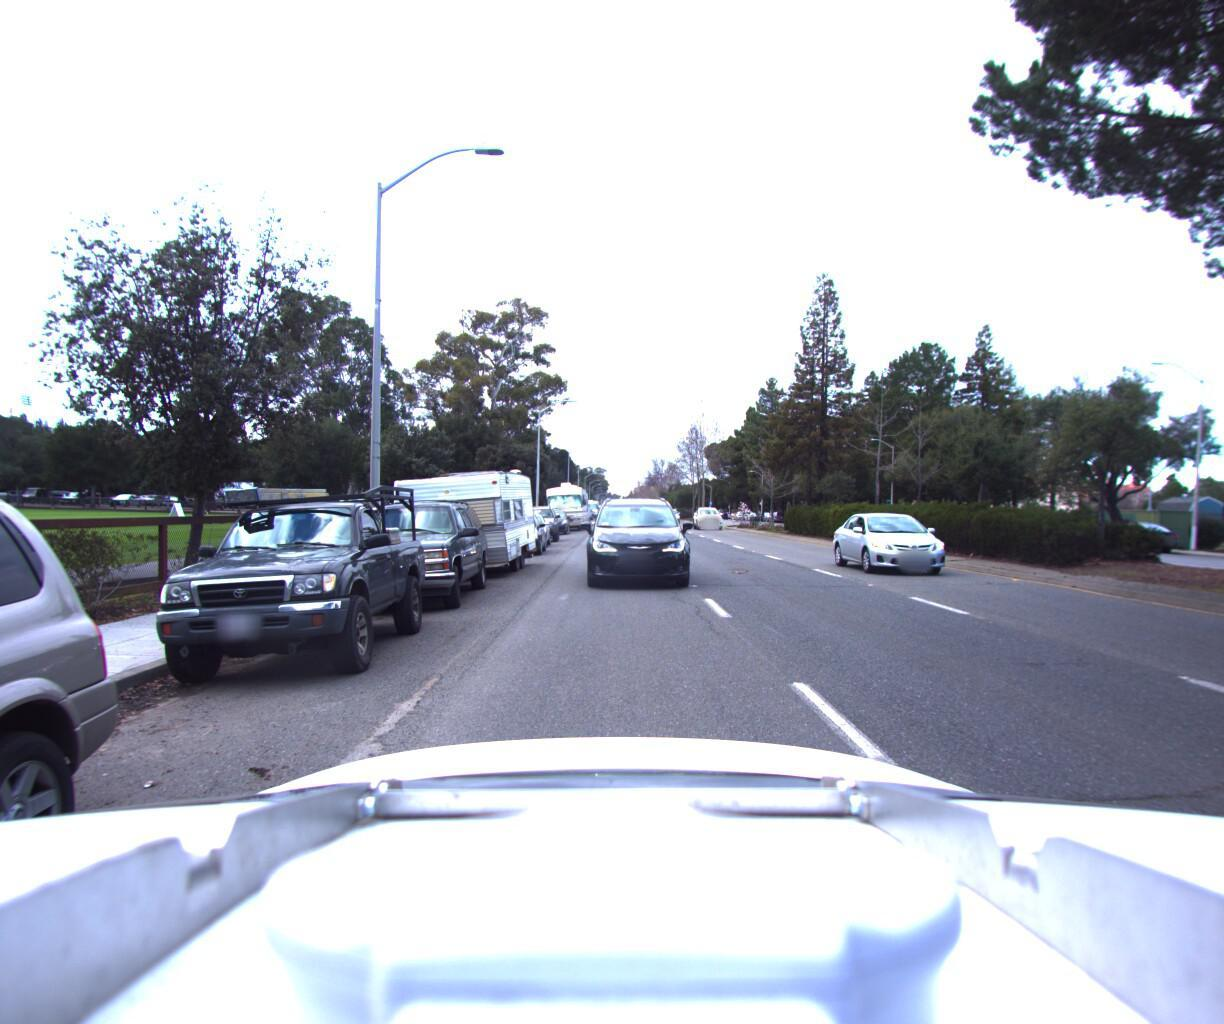car: (124, 465, 434, 705), (316, 494, 494, 622), (842, 507, 980, 581), (584, 489, 684, 589), (1086, 517, 1177, 553), (483, 509, 546, 557), (514, 500, 558, 542), (501, 510, 549, 548), (695, 502, 727, 528)
other_vehicle: (378, 458, 534, 585), (542, 479, 587, 529)
